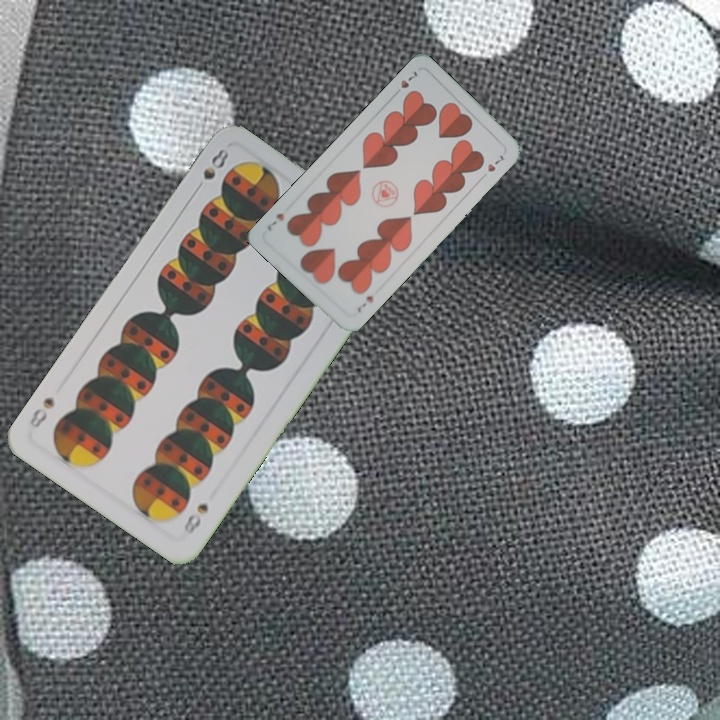H7: (396, 66, 420, 91), (353, 292, 376, 315)
S8: (199, 144, 232, 183), (180, 499, 211, 538)
